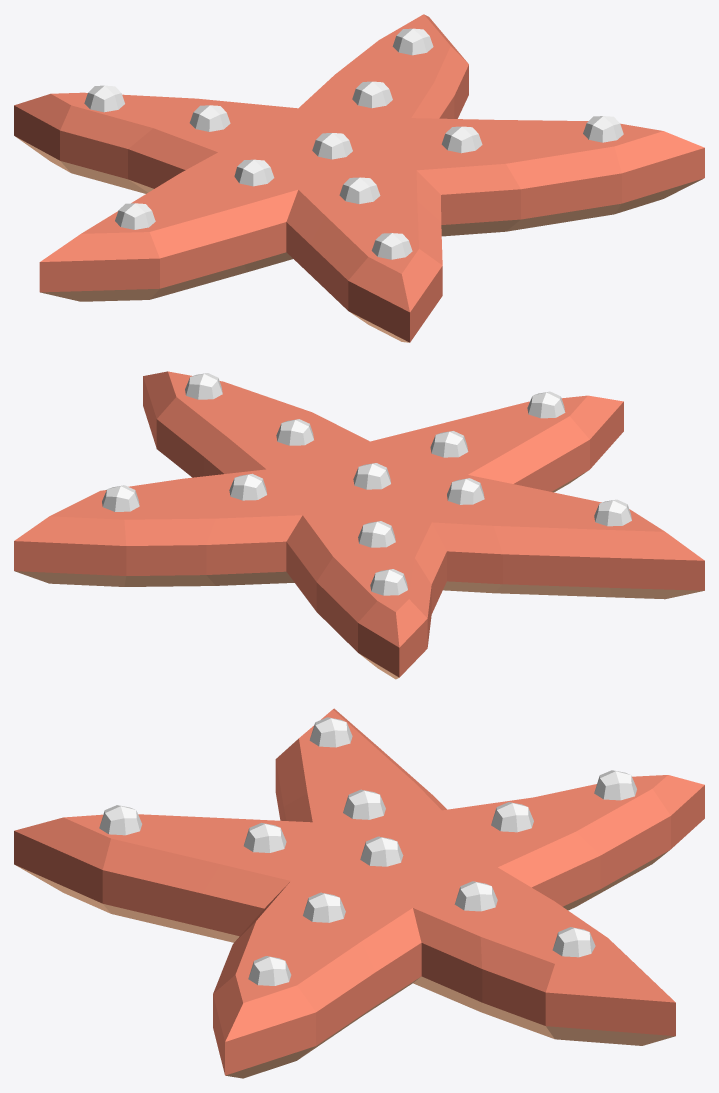
File: Starfish.glb
3 renders of one model, top to bottom at view 1: azimuth 30°, elevation 25°; view 2: azimuth 150°, elevation 25°; view 3: azimuth 270°, elevation 25°, orthographic. The views are drawn at different scales.
Parts seen in each view (by area): view 1: Lowpoly_seaweed__shell_and_starfish_part2; view 2: Lowpoly_seaweed__shell_and_starfish_part2; view 3: Lowpoly_seaweed__shell_and_starfish_part2.
Boxes of the visible parts, <box> form: Lowpoly_seaweed__shell_and_starfish_part2: <box>14,14,704,342</box>; Lowpoly_seaweed__shell_and_starfish_part2: <box>14,371,704,679</box>; Lowpoly_seaweed__shell_and_starfish_part2: <box>14,708,704,1078</box>.
Size of the model in its own units: 0.348 by 0.0464 by 0.3046.
